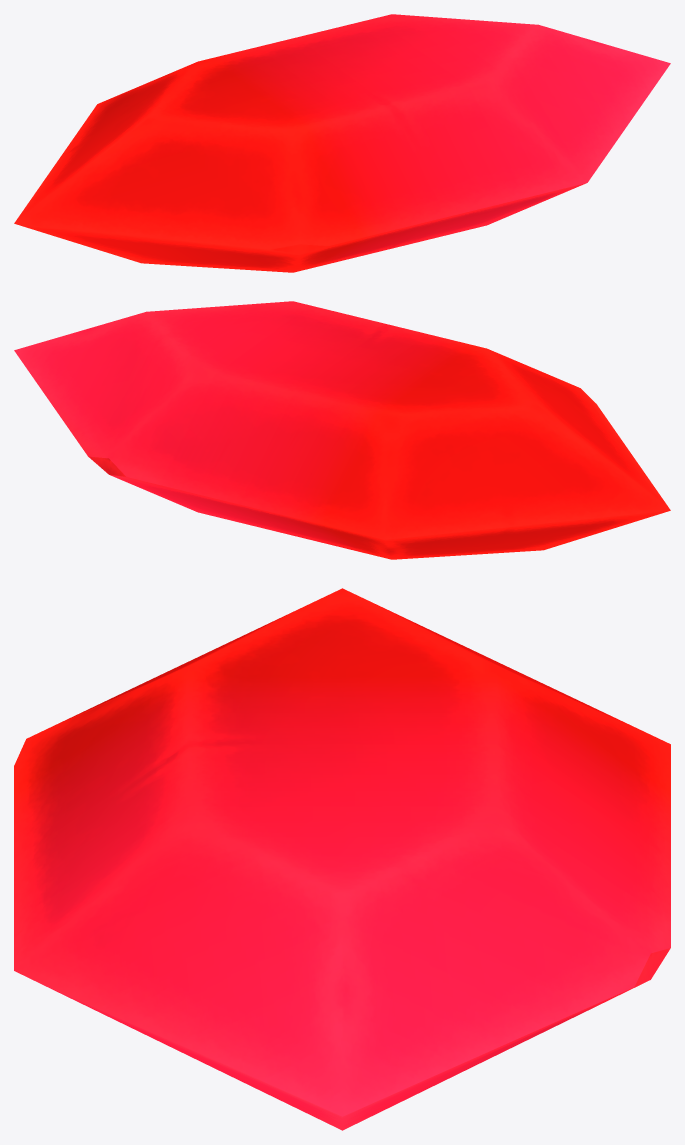
The model's file is SM_Gem_Shape_2.fbx.
The picture shows the model from 3 angles, top to bottom: view 1: azimuth 30°, elevation 25°; view 2: azimuth 150°, elevation 25°; view 3: azimuth 270°, elevation 25°; orthographic projection. The views are drawn at different scales.
Visible parts, largest first — view 1: SM_Gem_Shape_2_LOD0; view 2: SM_Gem_Shape_2_LOD0; view 3: SM_Gem_Shape_2_LOD0.
Boxes of the visible parts, x1,y1,x2,y2 form: SM_Gem_Shape_2_LOD0: [14, 14, 670, 272]; SM_Gem_Shape_2_LOD0: [14, 301, 670, 559]; SM_Gem_Shape_2_LOD0: [14, 588, 670, 1130].
Size of the model in its own units: 24.42 by 13.08 by 5.03.
Materials: 1 (1 with a texture image).
